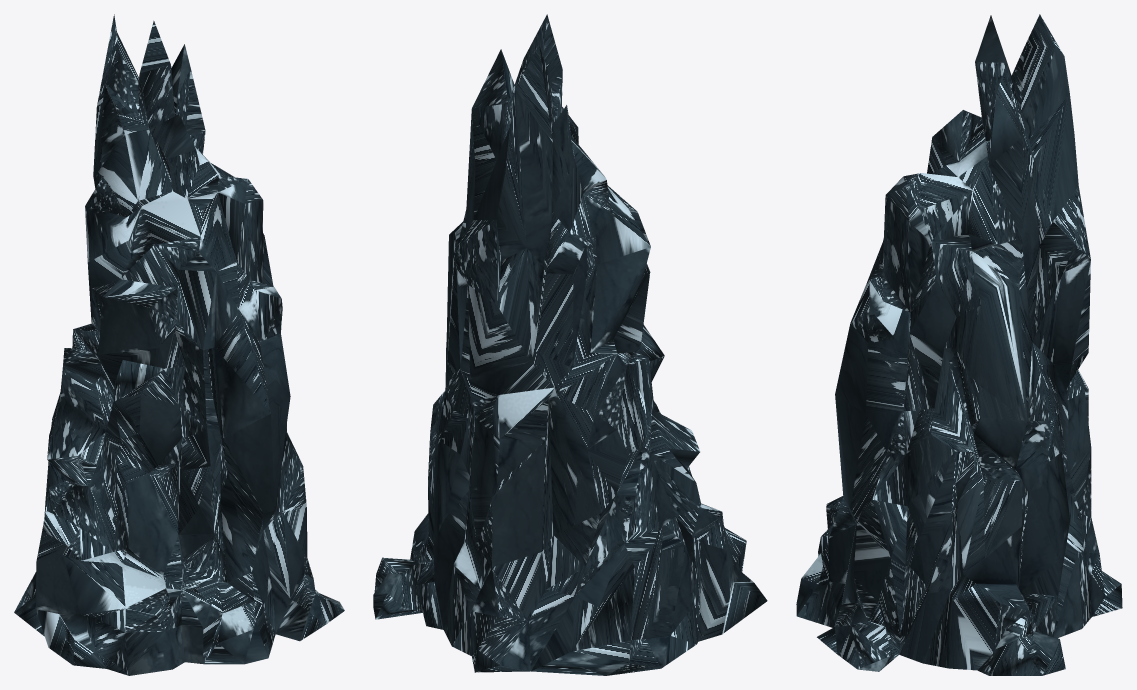
The model's file is cover_full_snow_v1_lod1.glb.
3 views of the same model, side by side, from view 1: azimuth 30°, elevation 25°; view 2: azimuth 150°, elevation 25°; view 3: azimuth 270°, elevation 25° (orthographic). The views are drawn at different scales.
Bounding box in the file's own units: 0.9723 × 1.85 × 0.9238.
Materials: 1 (1 with a texture image).
